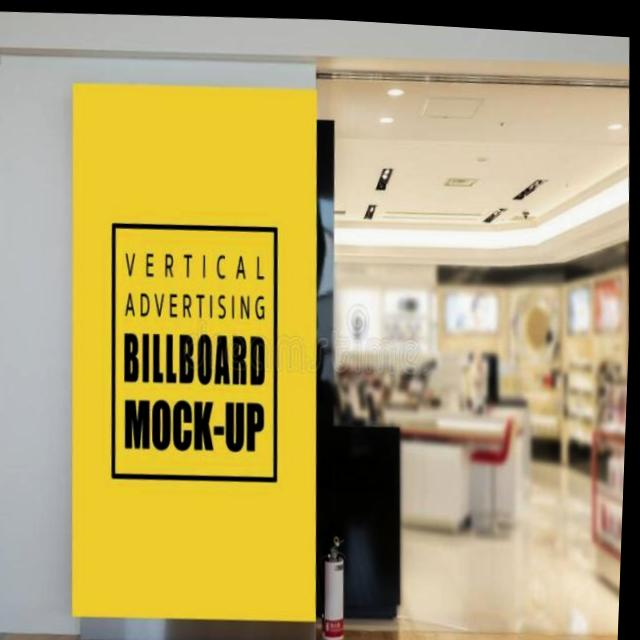FireExtinguisher: (314, 520, 358, 639)
